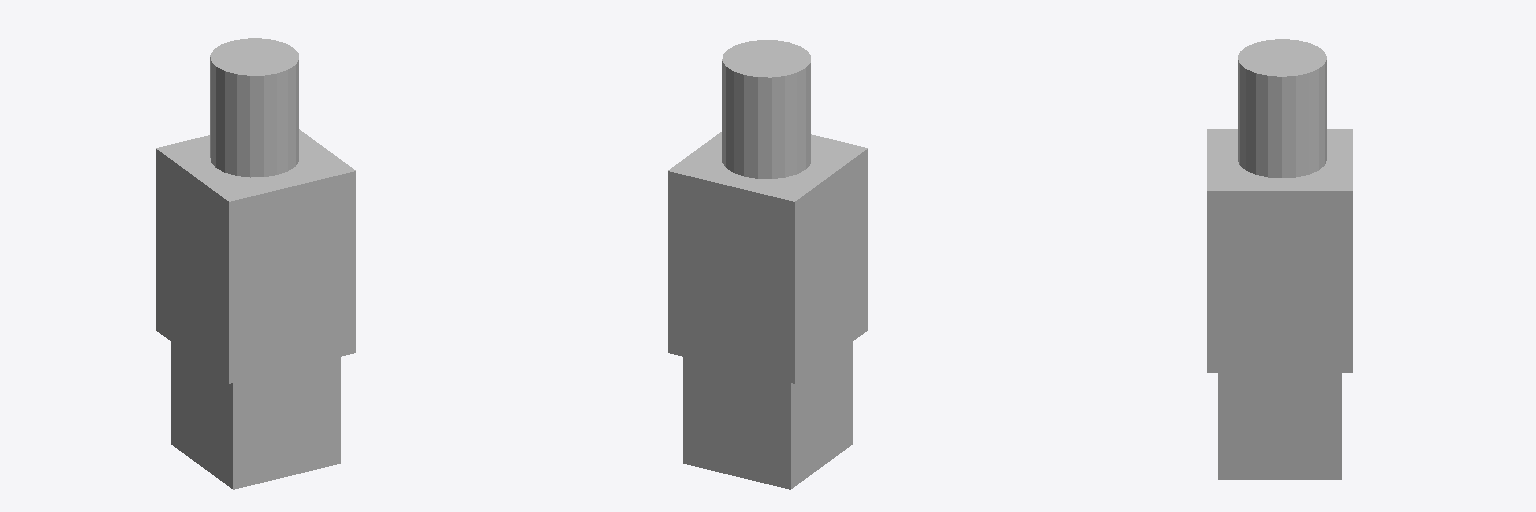
File: statue .obj
The picture shows the model from 3 angles: view 1: azimuth 30°, elevation 25°; view 2: azimuth 150°, elevation 25°; view 3: azimuth 270°, elevation 25°; orthographic projection.
Visible parts, largest first — view 1: pCylinder2; view 2: pCylinder2; view 3: pCylinder2.
Part boxes in pixels (x1,y1,x2,y2): pCylinder2: (156, 38, 355, 489); pCylinder2: (668, 40, 867, 489); pCylinder2: (1207, 39, 1352, 479).
Bounding box in the file's own units: 0.8023 × 2.39 × 0.8023.